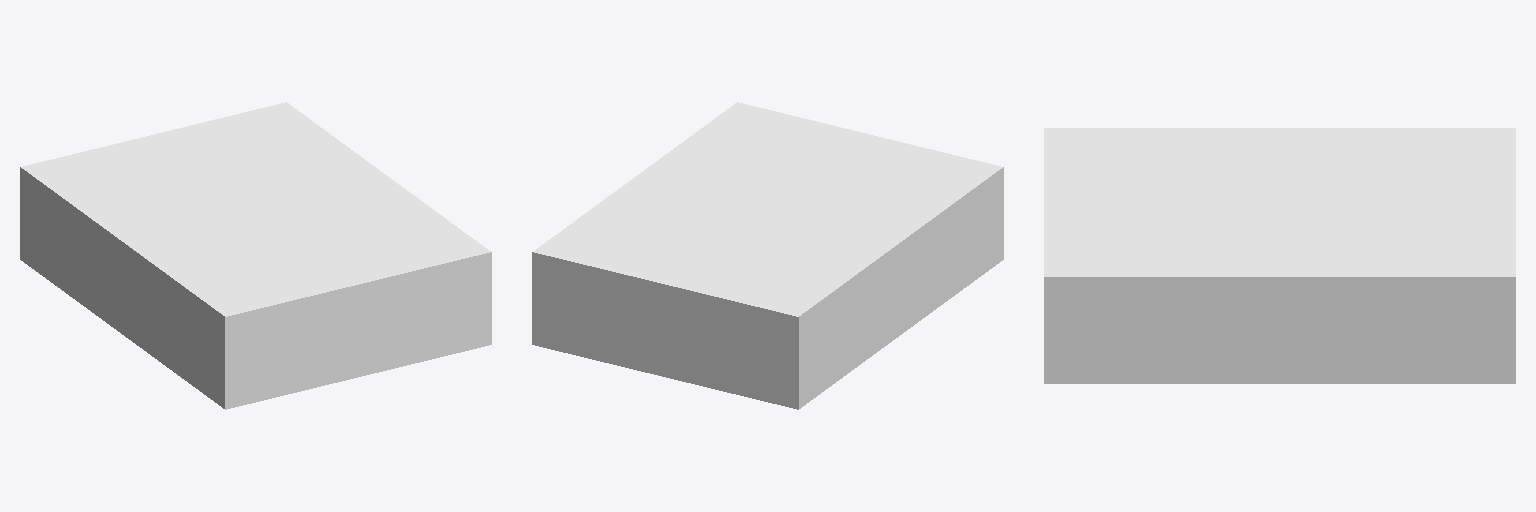
The robot description file, URDF, robot "multi_colored.urdf":
<?xml version="1.0" ?>
<robot name="multi_colored.urdf">
  <link name="baseLink">
    <contact>
      <lateral_friction value="0.5"/>
      <rolling_friction value="0.0"/>
      <contact_cfm value="0.0"/>
      <contact_erp value="1.0"/>
    </contact>
    <inertial>
      <origin rpy="0 0 0" xyz="0 0 0"/>
       <mass value=".1"/>
       <inertia ixx="1" ixy="0" ixz="0" iyy="1" iyz="0" izz="1"/>
    </inertial>
    <visual>
      <origin rpy="0 0 0" xyz="0 0 0"/>
      <geometry>
        <mesh filename="multi_colored.obj" scale="1 1 1"/>
      </geometry>
       <material name="white">
        <color rgba="1 1 1 1"/>
      </material>
    </visual>
    <collision>
      <origin rpy="0 0 0" xyz="0 0 0"/>
      <geometry>
	 	    <mesh filename="multi_colored.obj" scale="1 1 1"/>
      </geometry>
    </collision>
  </link>
</robot>

--- What the picture shows (computed from the rendered views, not written in the file) ---
3 views of the same robot in one strip: view 1: azimuth 30°, elevation 25°; view 2: azimuth 150°, elevation 25°; view 3: azimuth 270°, elevation 25° (orthographic).
Model multi_colored.urdf with 1 links and 0 joints (none), rooted at baseLink, posed all joints at 0.
Visible links, largest first — view 1: baseLink; view 2: baseLink; view 3: baseLink.
Link boxes in pixels (left/top/right/bottom): baseLink: left=20, top=102, right=491, bottom=409; baseLink: left=532, top=102, right=1003, bottom=409; baseLink: left=1044, top=128, right=1515, bottom=383.
Size in the robot's own frame: 0.09 by 0.12 by 0.03 metres.
1 mesh visuals loaded from 1 distinct referenced files (1 OBJ).